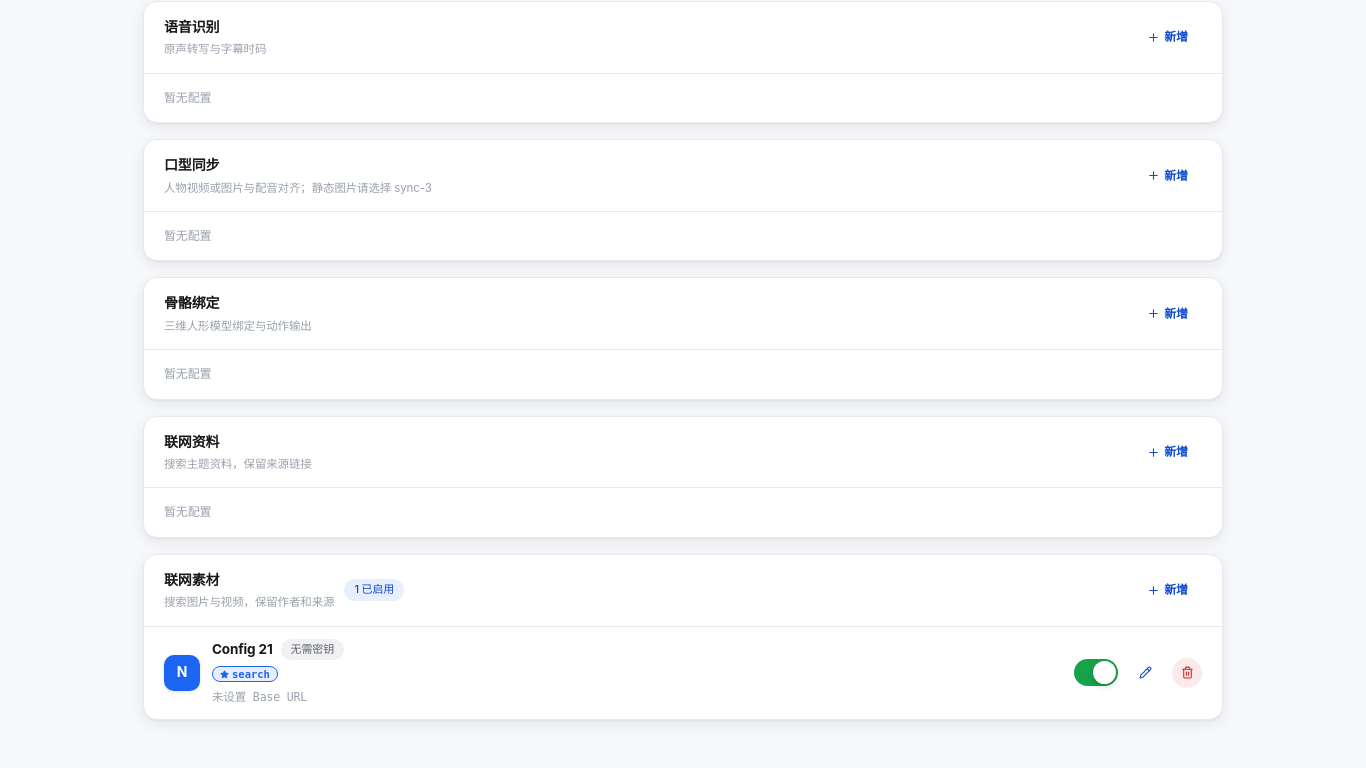
shows a neutral keyless state while retaining the public service address configuration
(page scrolled)
Click the button named "编辑 Config 21".
click(1145, 672)  # box [1130,658,1160,688]
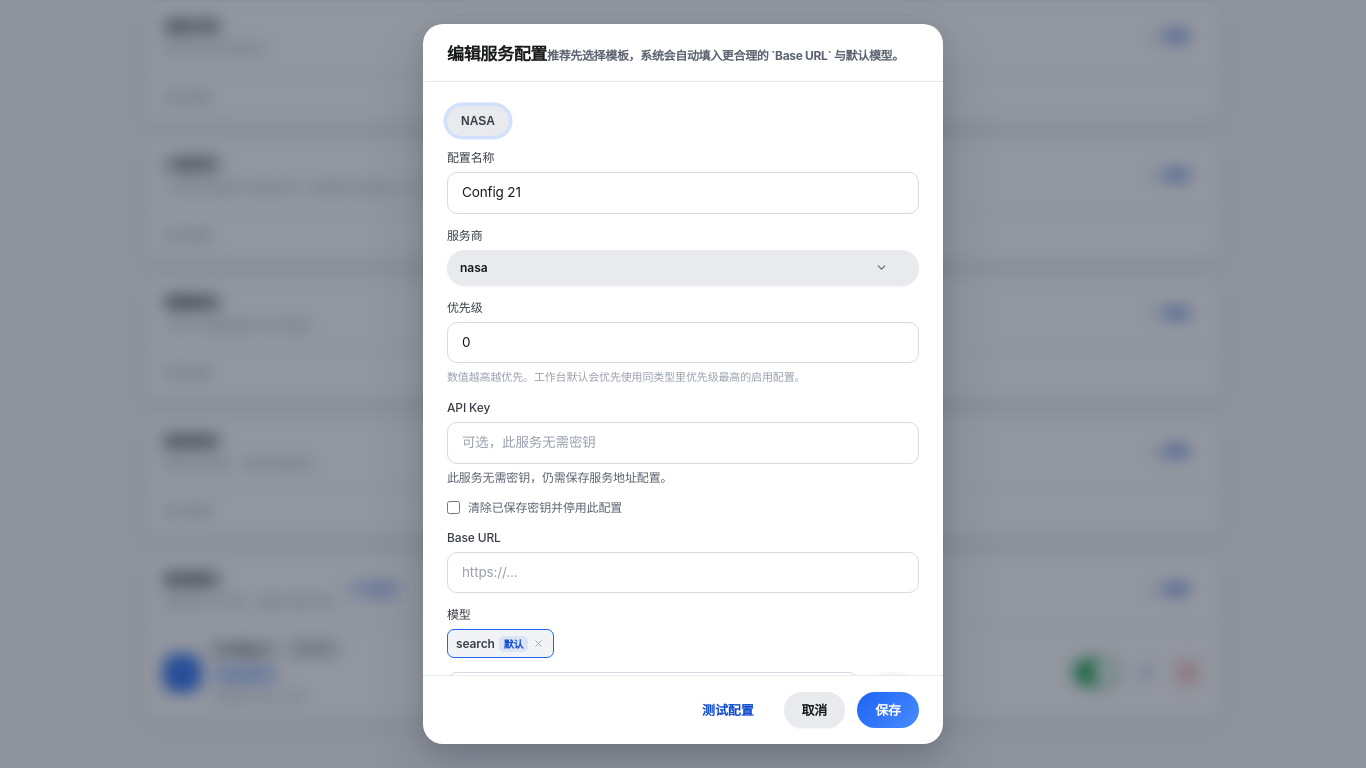
Now the password field with placeholder "可选，此服务无需密钥" is shown, box [447,422,919,464]
Now the text "此服务无需密钥，仍需保存服务地址配置。" is shown, box [447,470,672,484]
